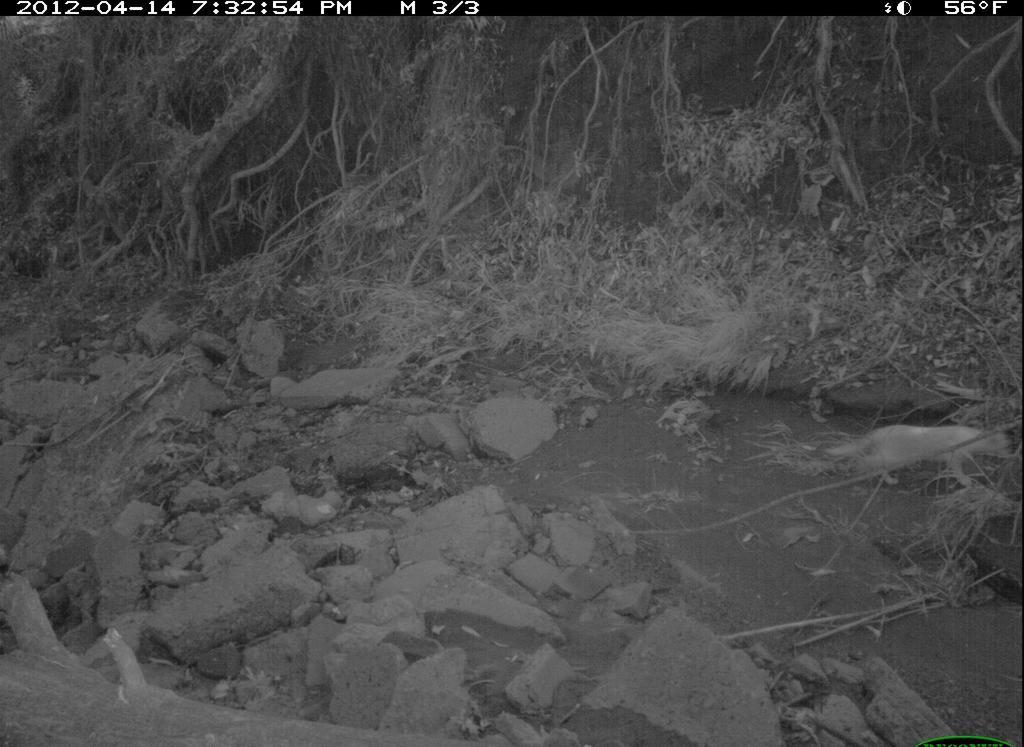cat: (816, 413, 1023, 496)
